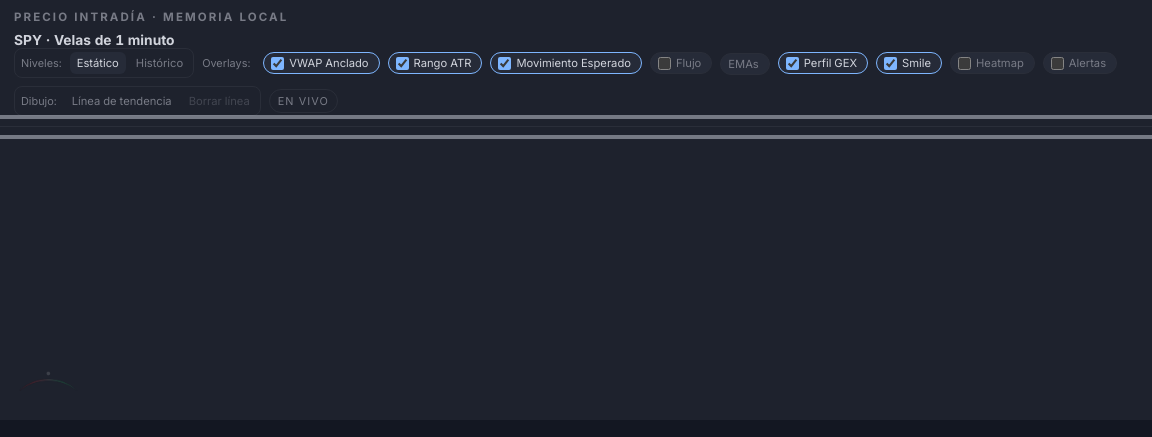
Test: PriceChart › toggles the VWAP and ATR overlays off via their checkboxes
The width and height of the screenshot is (1152, 437).
Check: the 1st element with class "atr-band" is shown, box [0,115,1151,119]
Click the checkbox labelled "VWAP Anclado": (278, 63) [271,56,284,70]
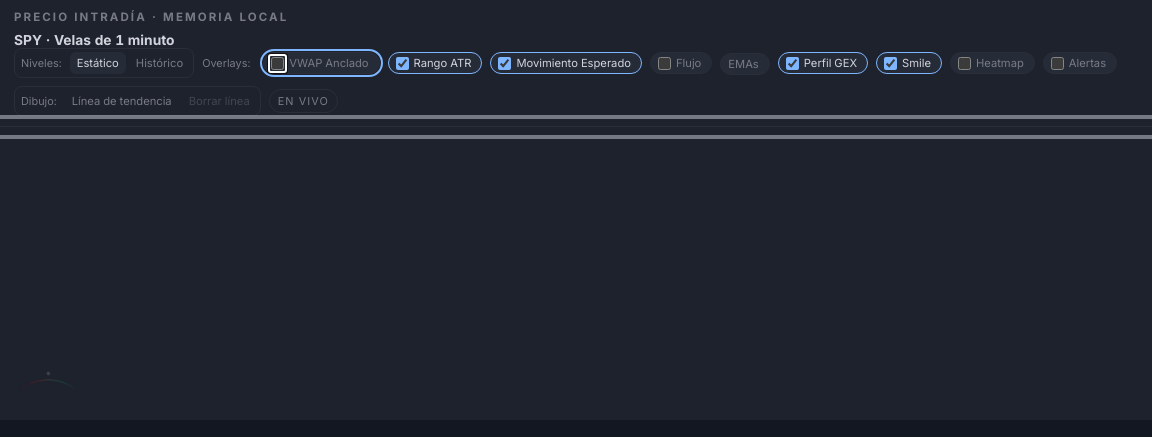
Click the checkbox labelled "Rango ATR": (402, 63) [396,56,409,70]
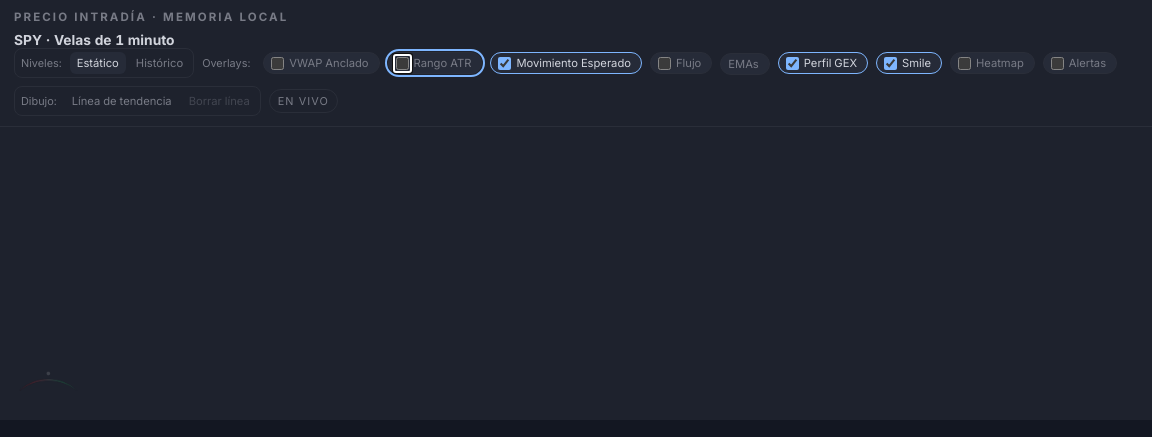
Check: the element with class "atr-band" is gone
